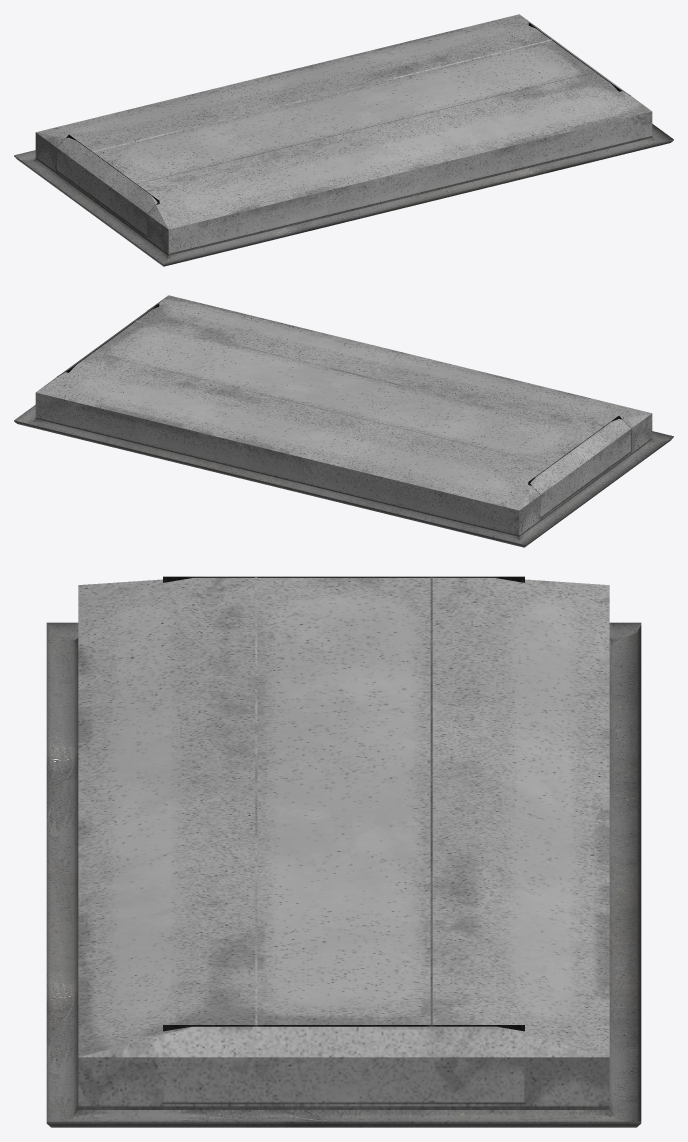
Rendered from LampFluoBuiltinC.fbx.
3 views of the same model, one above another, from view 1: azimuth 30°, elevation 25°; view 2: azimuth 150°, elevation 25°; view 3: azimuth 270°, elevation 25° (orthographic). The views are drawn at different scales.
Visible parts, largest first — view 1: LampFluoBuiltinC; view 2: LampFluoBuiltinC; view 3: LampFluoBuiltinC.
Part boxes in pixels (bbox=[...]): LampFluoBuiltinC: bbox=[14, 14, 673, 266]; LampFluoBuiltinC: bbox=[14, 295, 673, 547]; LampFluoBuiltinC: bbox=[46, 576, 641, 1127].
Size of the model in its own units: 135 by 10.02 by 68.12.
